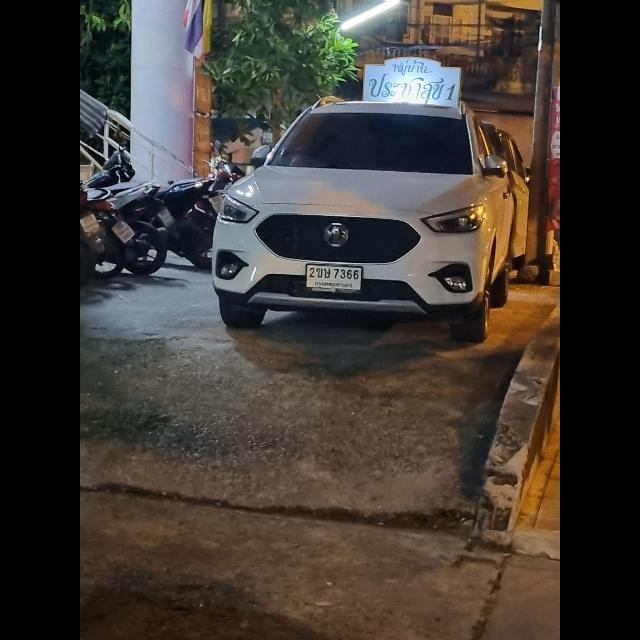licenseplate: (303, 259, 365, 297)
